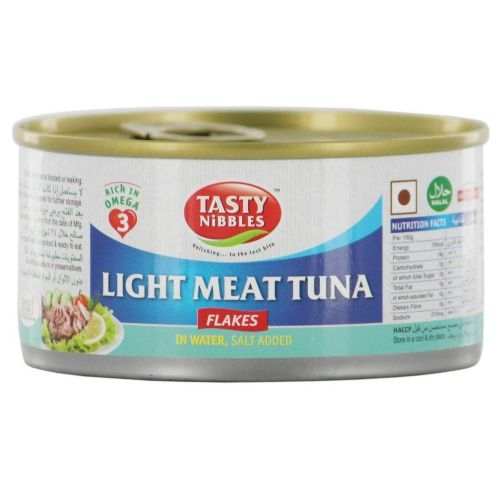nonveg_red: (388, 179, 418, 215)
